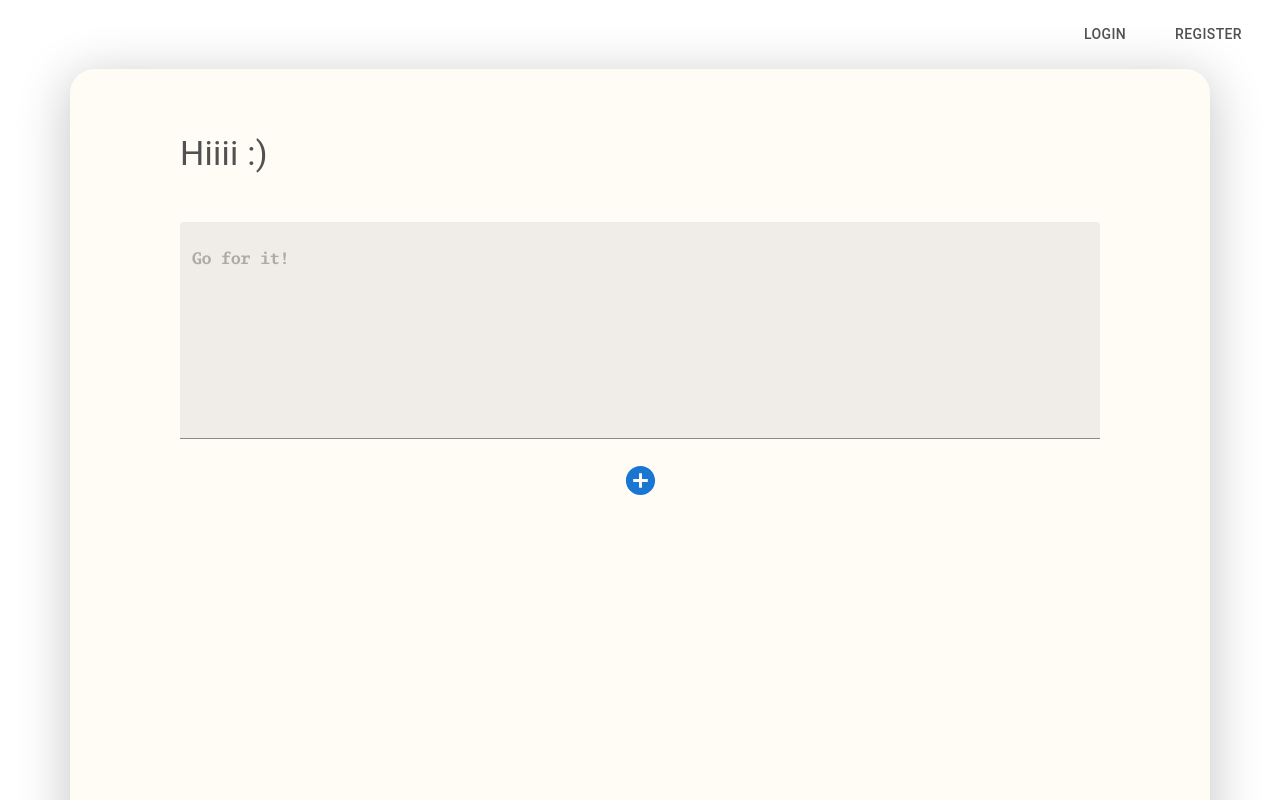
Test: Application tests › can write a message
Type "Some text!" into the text box with placeholder "Go for it!".
click(640, 340); type("Some text!")  # box x1=192 y1=248 x2=1088 y2=432
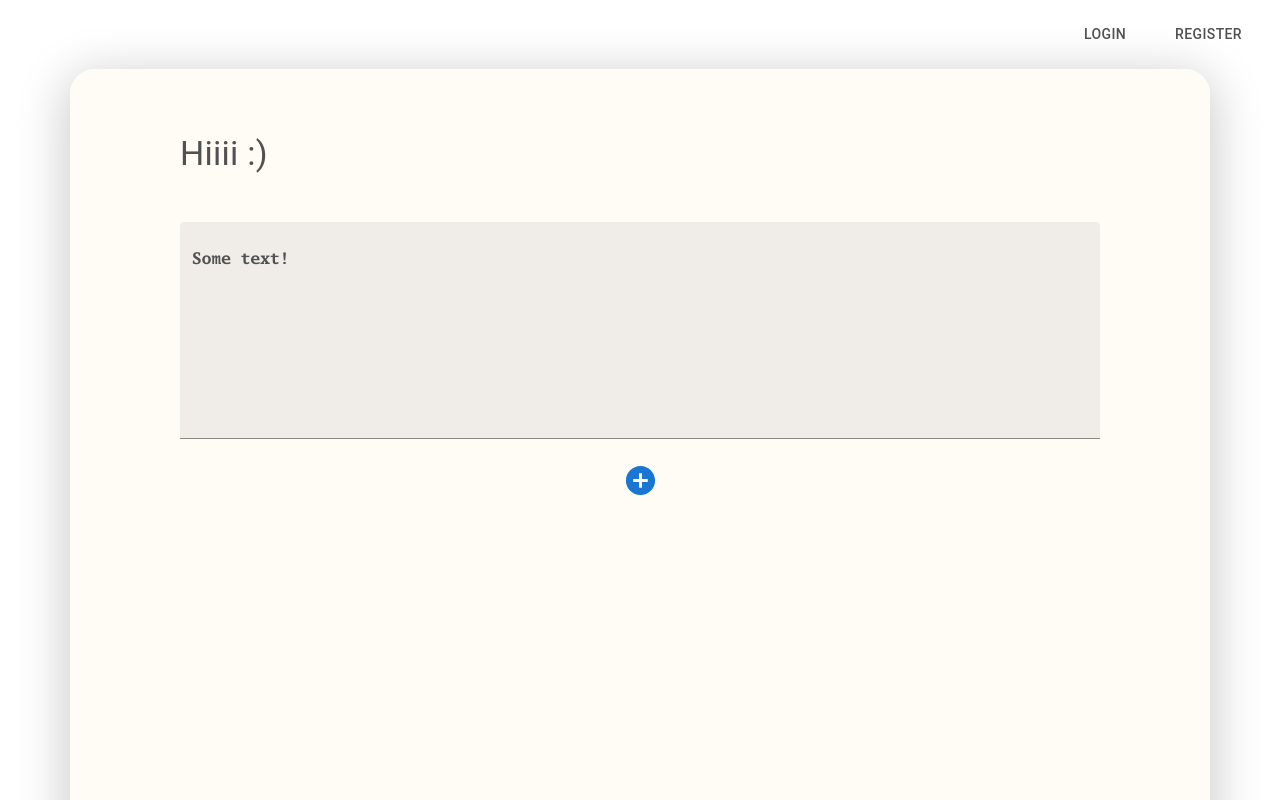
Click the icon with test id "submit-message".
click(640, 481)  # box x1=622 y1=464 x2=658 y2=498
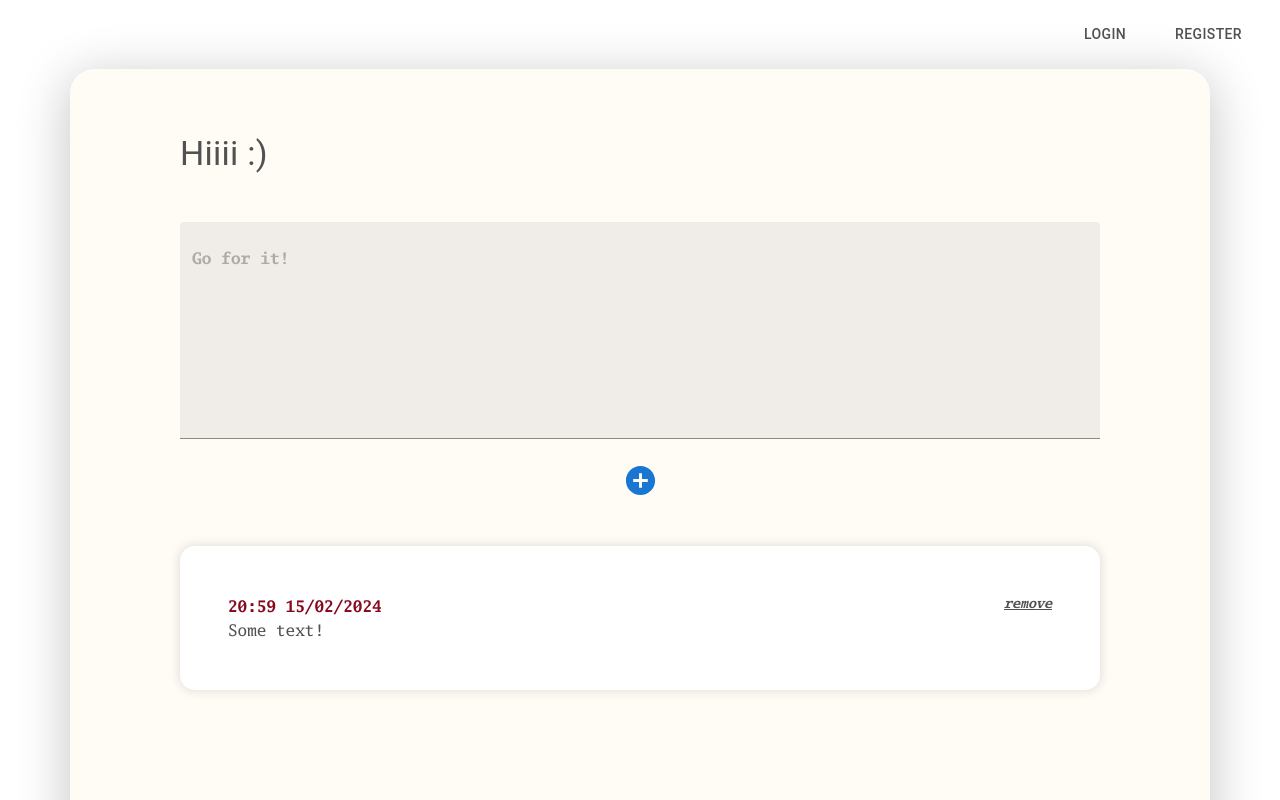
Expected: the text box with placeholder "Go for it!" is empty, x1=192 y1=248 x2=1088 y2=432
Expected: the text "Some text!" is shown, x1=228 y1=622 x2=324 y2=640
